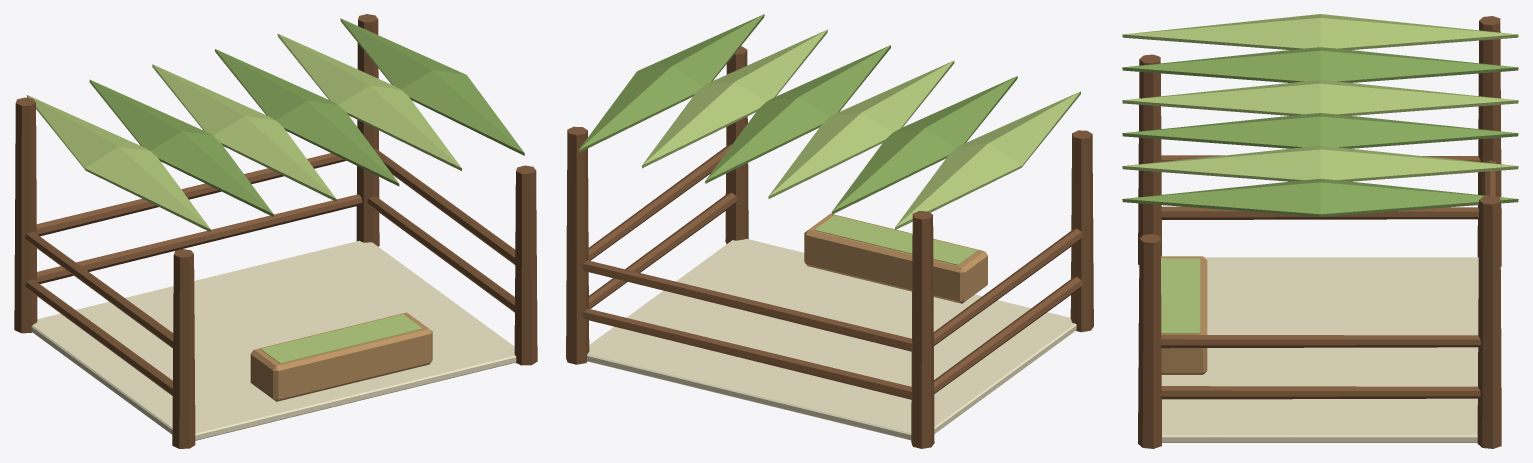
Rendered from CC_AphidPen.fbx.
3 views of the same model, side by side, from view 1: azimuth 30°, elevation 25°; view 2: azimuth 150°, elevation 25°; view 3: azimuth 270°, elevation 25° (orthographic). The views are drawn at different scales.
Visible parts, largest first — view 1: Straw floor, Trough, Shed roof, Shed roof.005, Shed roof.001, Shed roof.004, Shed roof.003, Shed roof.002, Pen post.001, Pen post, Pen post.002, Pen rail (+7 smaller); view 2: Straw floor, Shed roof.005, Shed roof.001, Shed roof.004, Shed roof.003, Shed roof.002, Shed roof, Trough, Pen post.001, Pen post.003, Pen rail.003, Pen rail (+7 smaller); view 3: Straw floor, Shed roof, Shed roof.005, Shed roof.001, Shed roof.004, Shed roof.002, Shed roof.003, Pen post.003, Pen post.002, Pen rail.002, Pen rail.005, Pen post (+5 smaller).
Boxes of the visible parts, x1,y1,x2,y2 form: Straw floor: (31,240,516,440); Trough: (250,312,432,401); Shed roof: (27,95,210,232); Shed roof.005: (340,18,524,155); Shed roof.001: (89,80,273,216); Shed roof.004: (277,34,461,170); Shed roof.003: (215,49,399,186); Shed roof.002: (152,64,336,201); Pen post.001: (14,97,37,333); Pen post: (172,249,195,448); Pen post.002: (514,165,537,365); Pen rail: (37,194,362,283); Straw floor: (587,238,1076,440); Shed roof.005: (578,14,764,152); Shed roof.001: (831,76,1017,214); Shed roof.004: (642,29,827,168); Shed roof.003: (705,45,890,183); Shed roof.002: (768,60,954,198); Shed roof: (895,91,1080,229); Trough: (804,213,987,303); Pen post.001: (911,211,934,448); Pen post.003: (566,126,589,364); Pen rail.003: (582,260,912,351); Pen rail: (582,308,912,399); Straw floor: (1161,257,1478,442); Shed roof: (1122,14,1518,49); Shed roof.005: (1122,178,1518,216); Shed roof.001: (1122,47,1518,82); Shed roof.004: (1122,146,1518,181); Shed roof.002: (1122,80,1518,115); Shed roof.003: (1122,113,1518,148); Pen post.003: (1477,195,1501,448); Pen post.002: (1138,234,1161,448); Pen rail.002: (1160,386,1480,399); Pen rail.005: (1159,334,1480,348); Pen post: (1138,54,1161,264).
Size of the model in its own units: 3.35 by 1.98 by 2.8.
